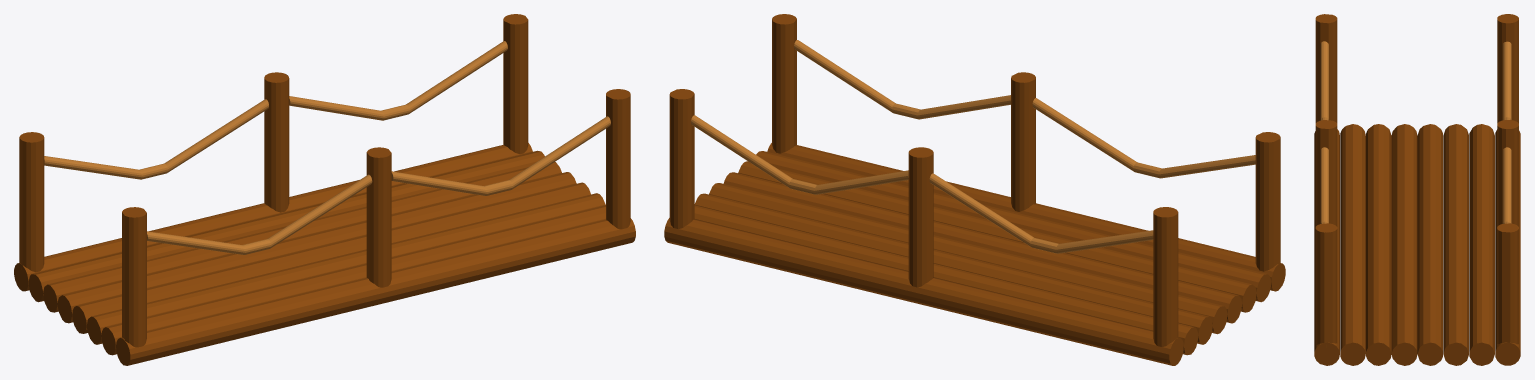
File: ponte.fbx
3 views of the same model, side by side, from view 1: azimuth 30°, elevation 25°; view 2: azimuth 150°, elevation 25°; view 3: azimuth 270°, elevation 25° (orthographic). The views are drawn at different scales.
Parts seen in each view (by area): view 1: ponte; view 2: ponte; view 3: ponte.
Part boxes in pixels (x1,y1,x2,y2): ponte: [14, 14, 635, 365]; ponte: [664, 14, 1285, 365]; ponte: [1314, 14, 1520, 365].
Size of the model in its own units: 719 by 205 by 287.
